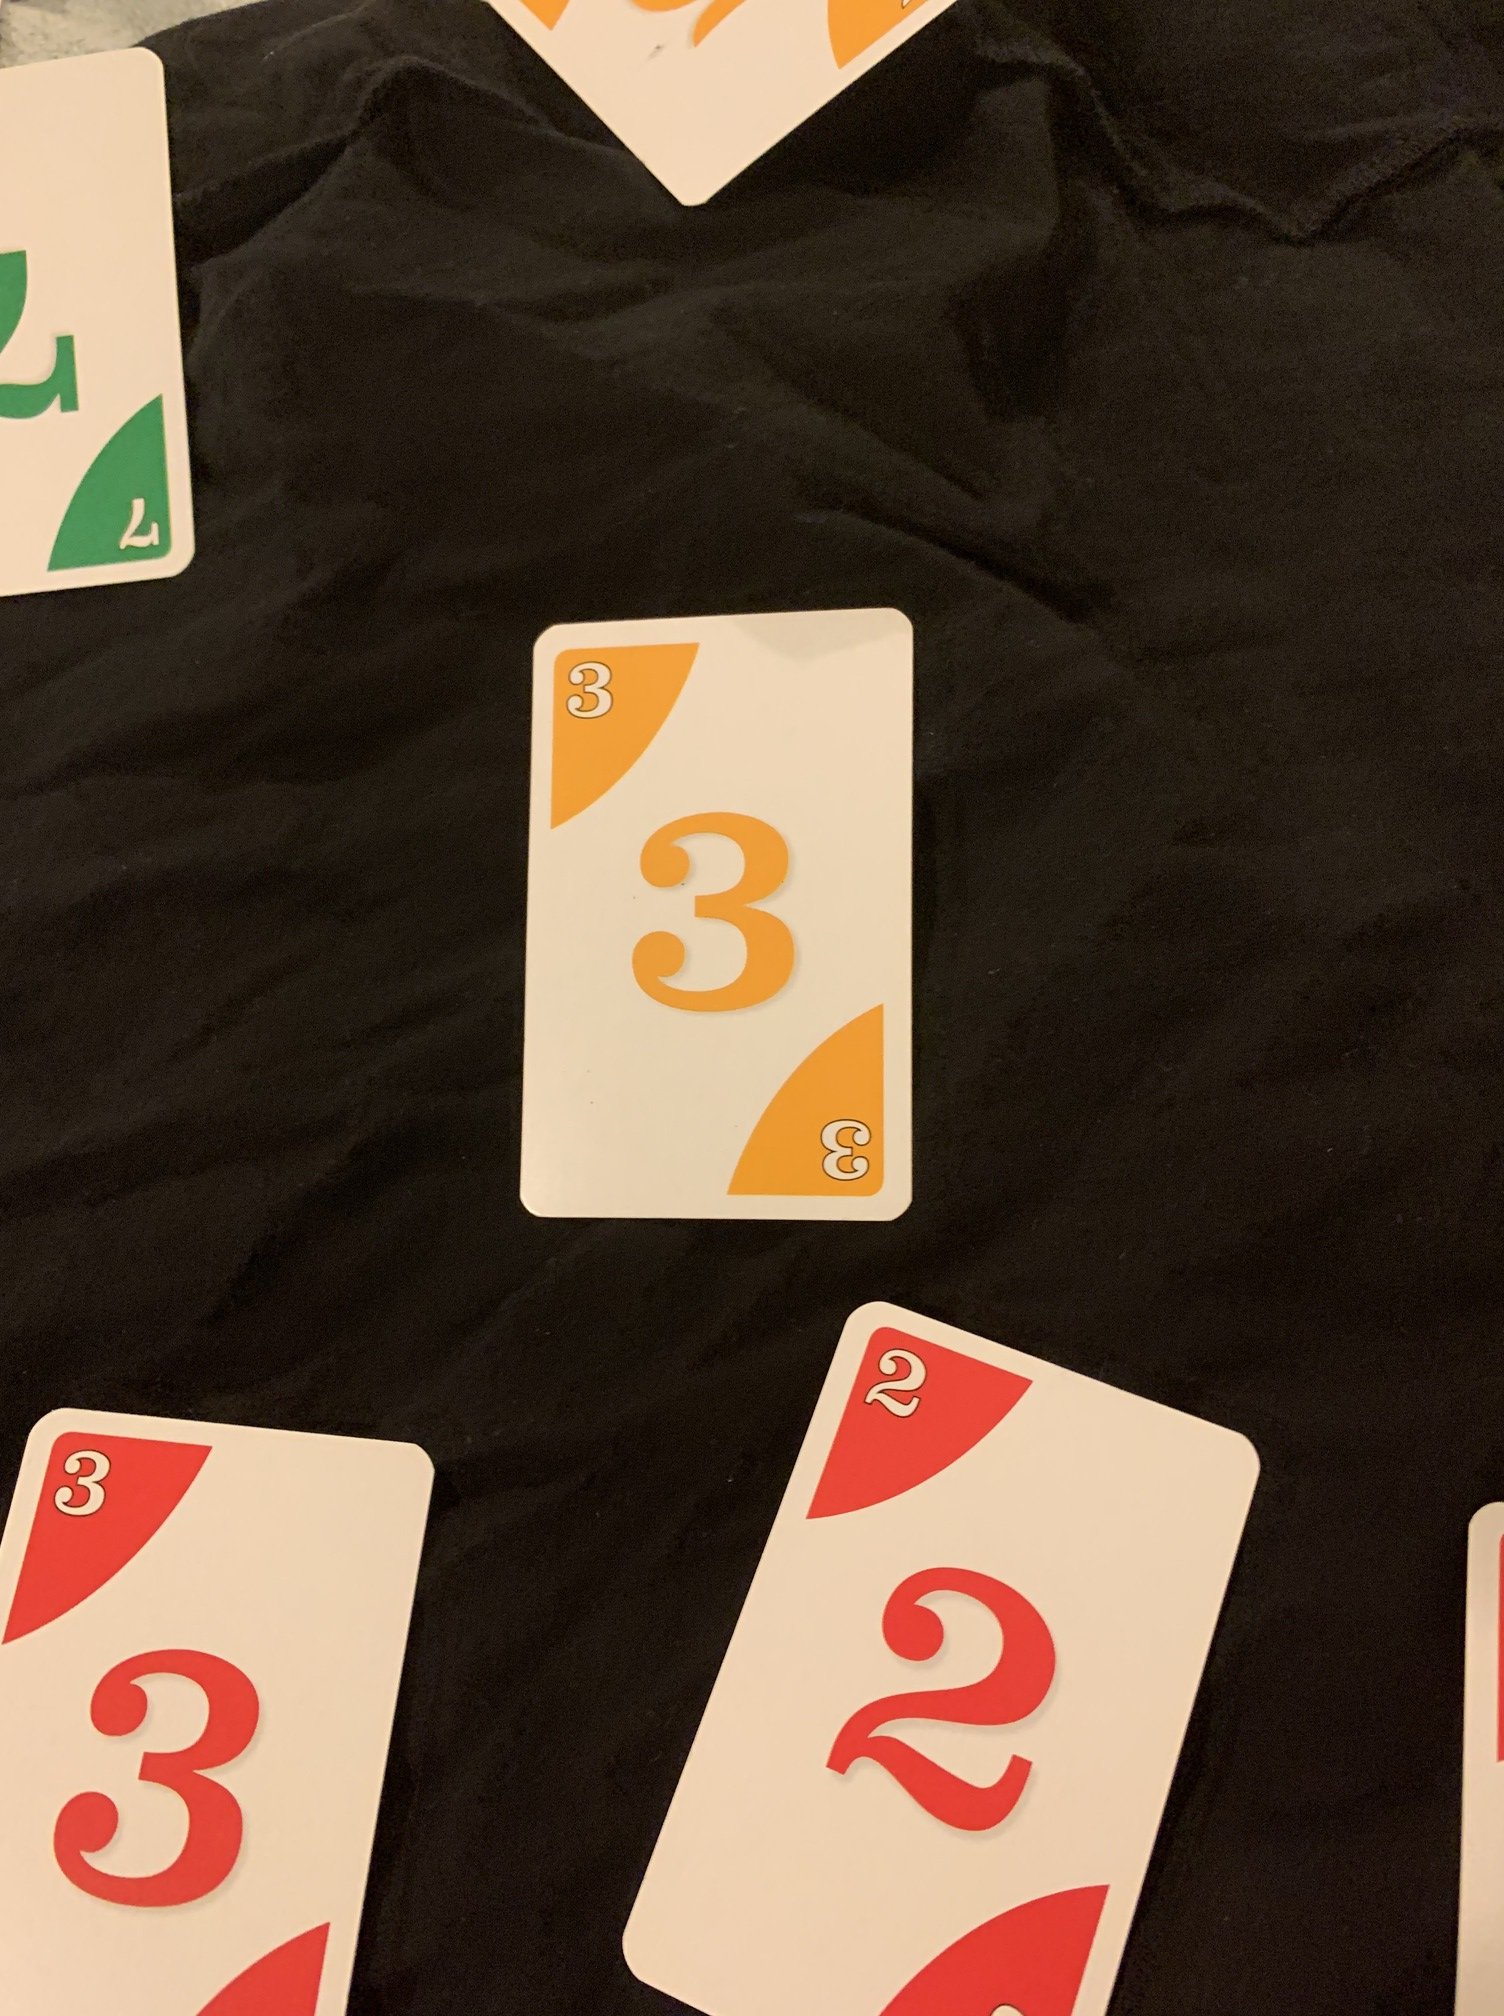three: (3, 1389, 453, 2007), (502, 596, 931, 1239)
two: (608, 1292, 1281, 2016)
